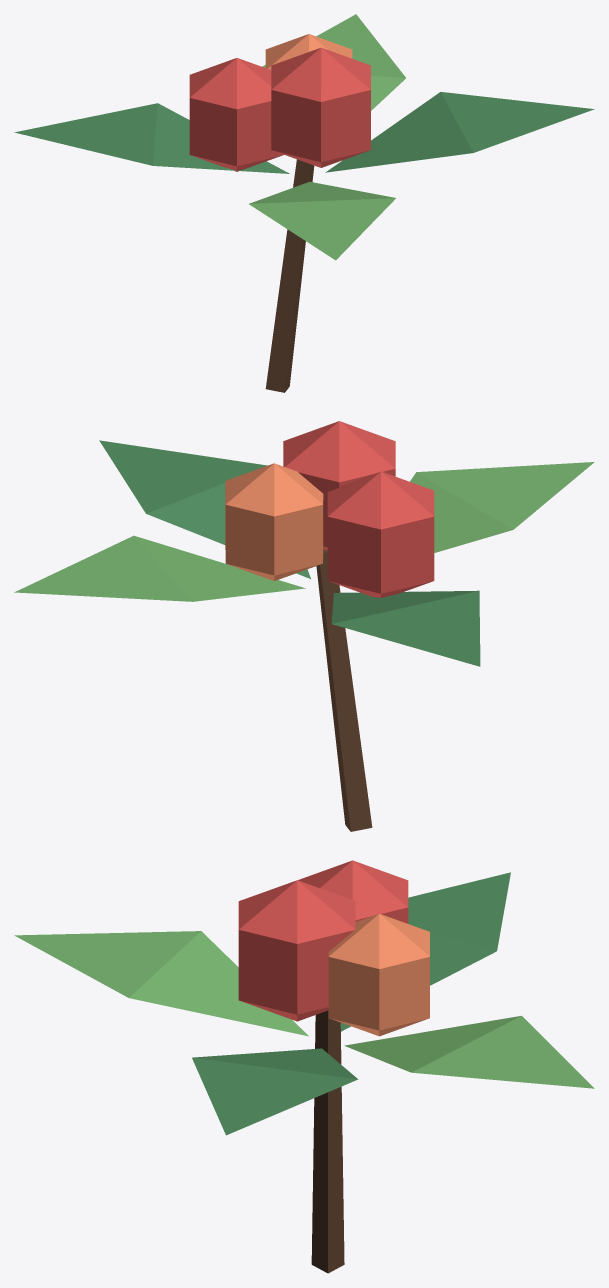
The model's file is deco_holly_berry.obj.
3 views of the same model, one above another, from view 1: azimuth 30°, elevation 25°; view 2: azimuth 150°, elevation 25°; view 3: azimuth 270°, elevation 25° (orthographic). The views are drawn at different scales.
Parts seen in each view (by area): view 1: deco_holly_berry; view 2: deco_holly_berry; view 3: deco_holly_berry.
Part boxes in pixels (<box>): deco_holly_berry: <box>14,14,594,392</box>; deco_holly_berry: <box>14,421,594,831</box>; deco_holly_berry: <box>14,860,594,1273</box>.
Size of the model in its own units: 0.0303 by 0.0217 by 0.0283.
Materials: 1 (1 with a texture image).
